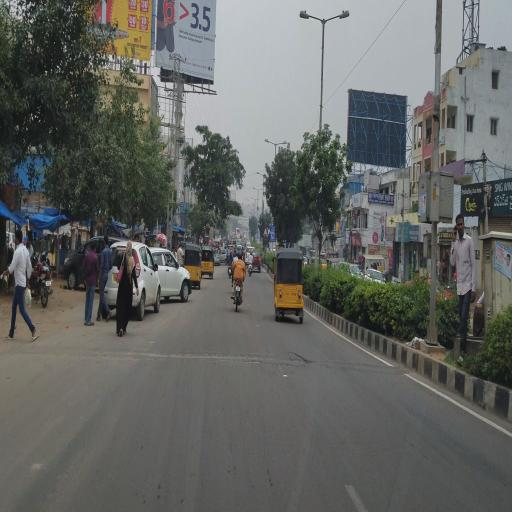street_light_0: (322, 4, 352, 28), (298, 0, 322, 26), (261, 133, 276, 153), (275, 136, 290, 154), (254, 165, 266, 179), (250, 182, 262, 196)
